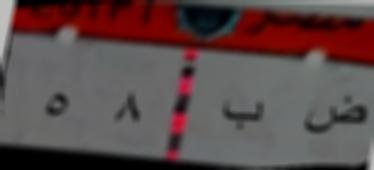5: (38, 90, 78, 122)
8: (111, 91, 158, 128)
baa: (220, 93, 274, 130)
daad: (298, 94, 370, 142)
